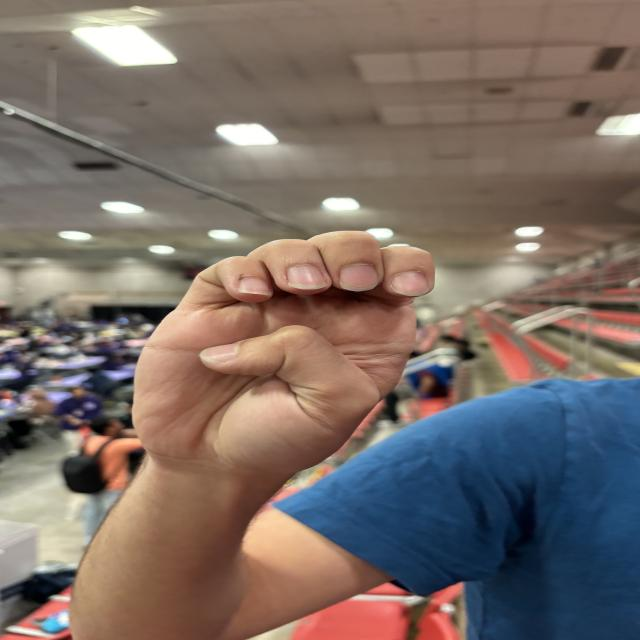E: (100, 215, 479, 462)
